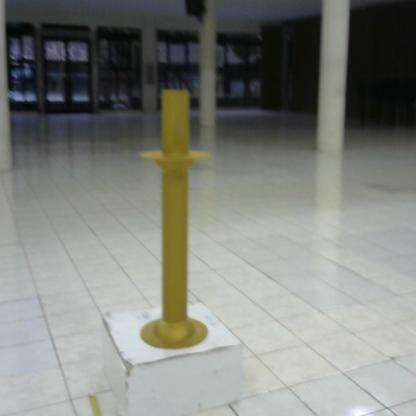pole: (132, 82, 217, 357)
